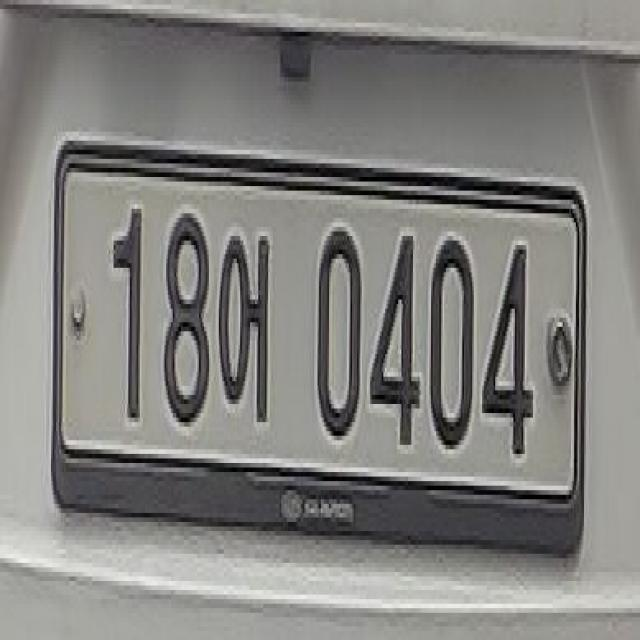0: (311, 222, 364, 450), (428, 222, 475, 463)
1: (104, 186, 148, 440)
4: (482, 223, 536, 477), (370, 218, 421, 463)
8: (156, 204, 212, 431)
eo: (217, 222, 275, 436)
license_plate: (46, 127, 586, 567)
